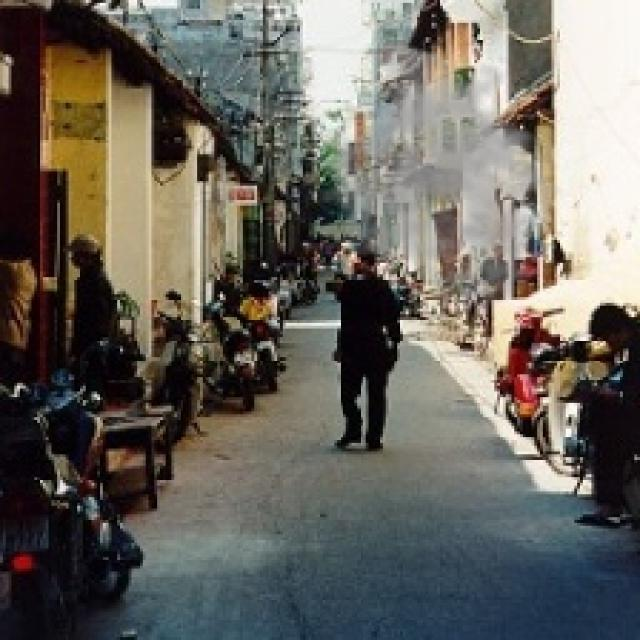smoke: (317, 43, 574, 308)
